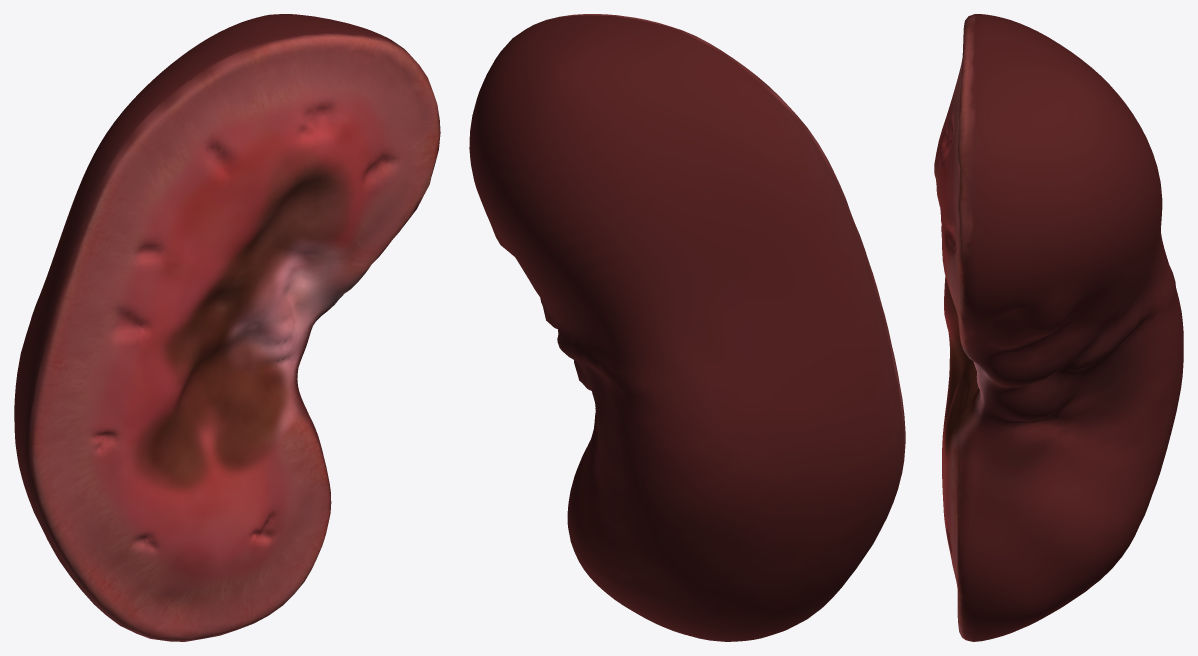
File: 12_postnekrotik.glb
3 views of the same model, side by side, from view 1: azimuth 30°, elevation 25°; view 2: azimuth 150°, elevation 25°; view 3: azimuth 270°, elevation 25° (orthographic). The views are drawn at different scales.
Parts seen in each view (by area): view 1: postnekrotik; view 2: postnekrotik; view 3: postnekrotik.
Boxes of the visible parts, x1,y1,x2,y2 form: postnekrotik: (14,14,440,641); postnekrotik: (469,14,905,641); postnekrotik: (934,14,1183,641).
Size of the model in its own units: 0.4692 by 0.636 by 0.2324.
Materials: 1 (1 with a texture image).
